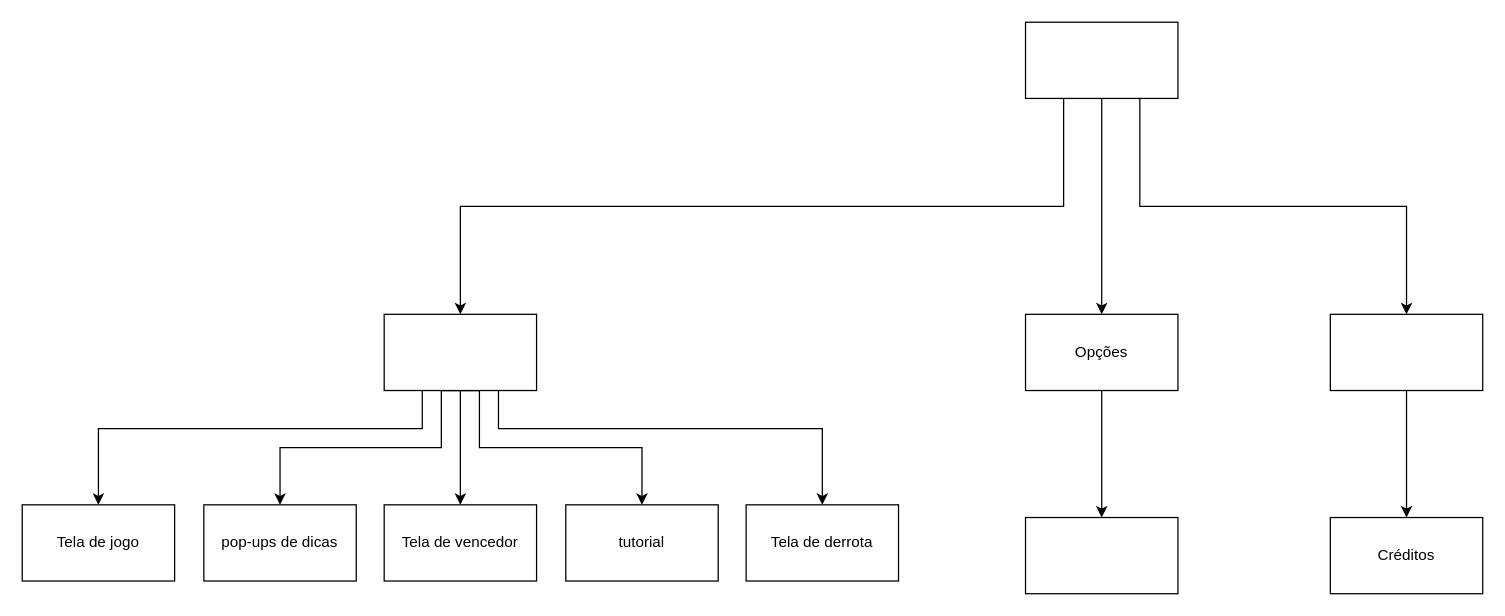
The diagram is 1505 pixels wide and 616 high, and some of its shapes have lost their labels. The shapes that lost their labels are listed below. From the top down, each one's box as (x1, y1, x2, y2) in pixels, then its label:
(1024, 21, 1178, 98): Tela inicial
(383, 313, 537, 391): Jogar
(1329, 313, 1483, 391): Sair
(1024, 516, 1178, 594): Tela opções
